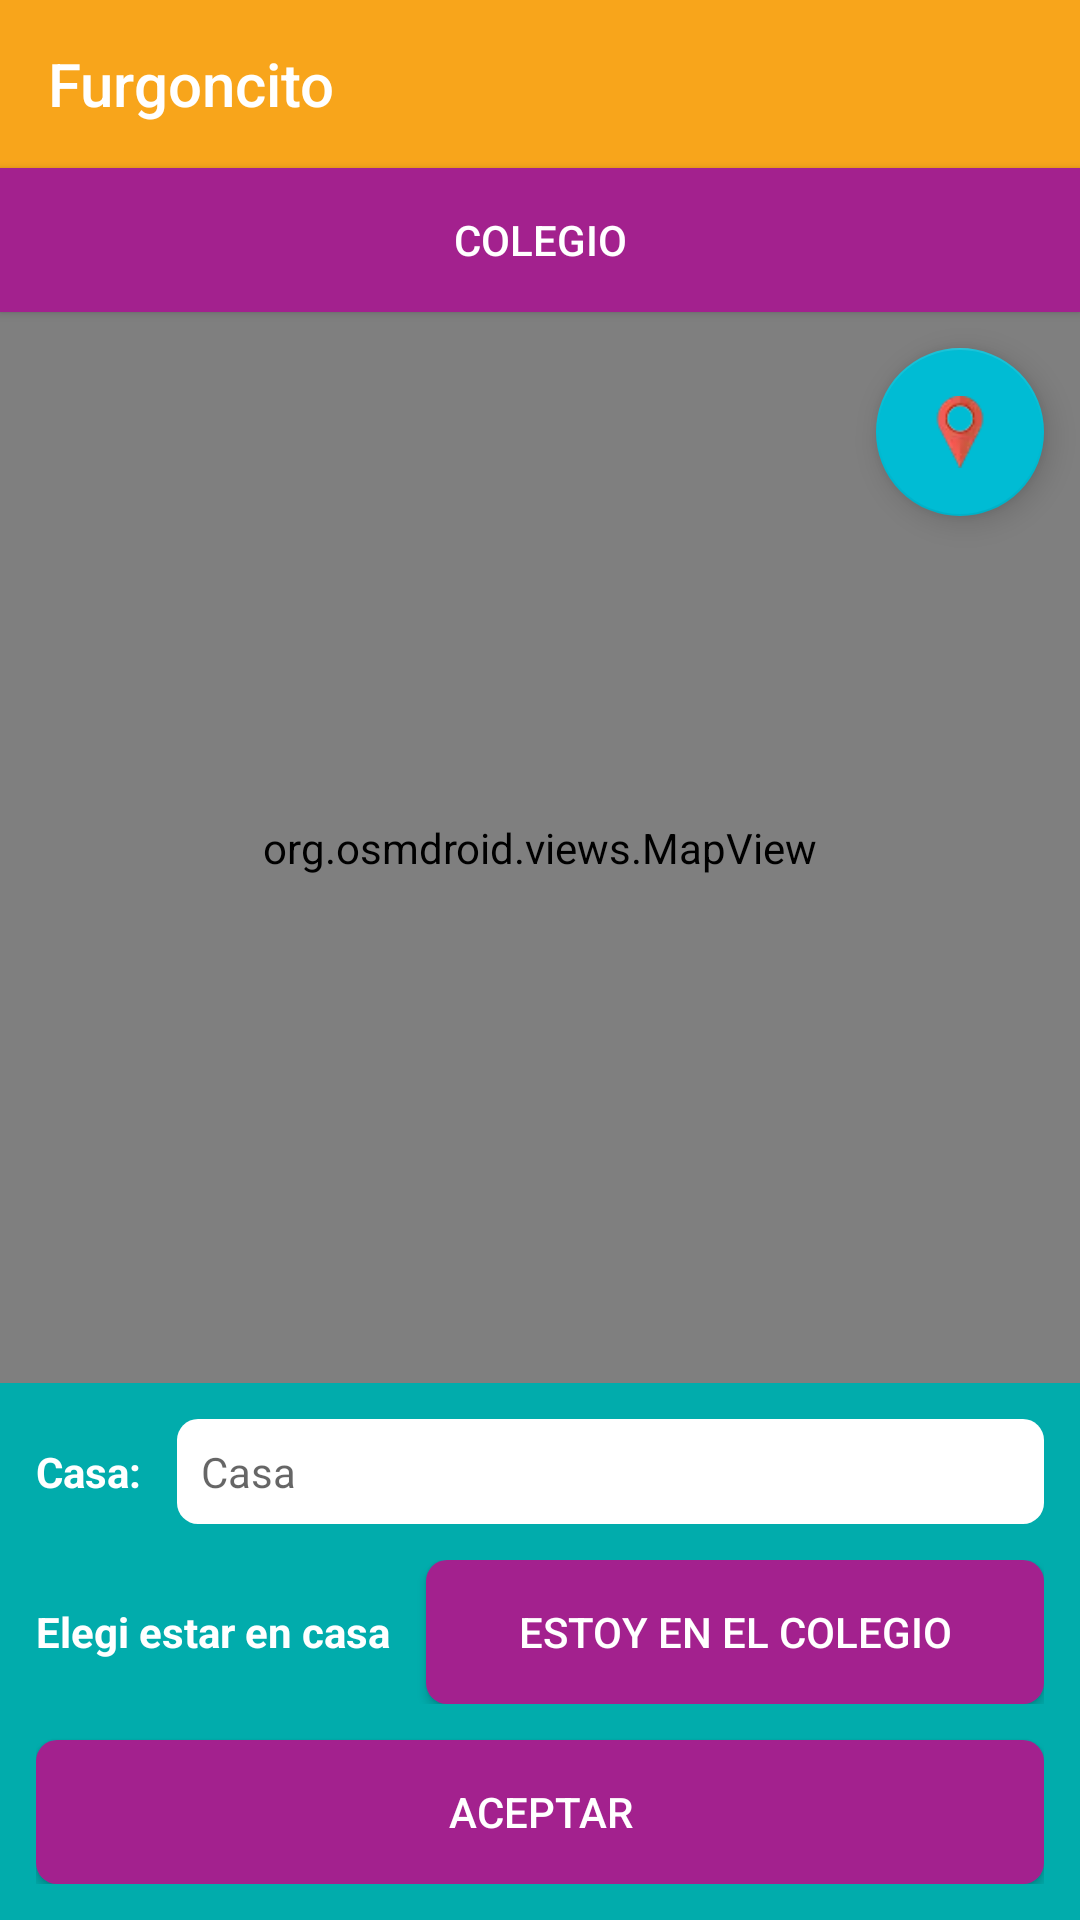

Point at icon controls on the screen. Image size 1080 x 1920, points as (x,y).
marker: (960,432)
